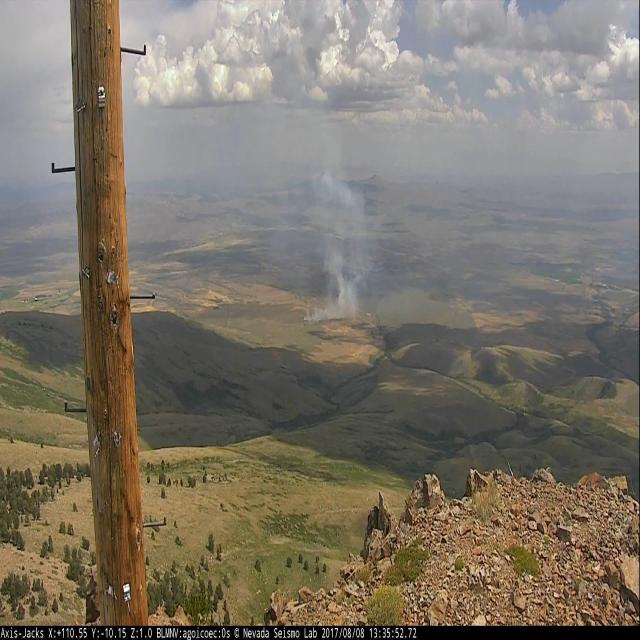smoke: (308, 173, 359, 327)
